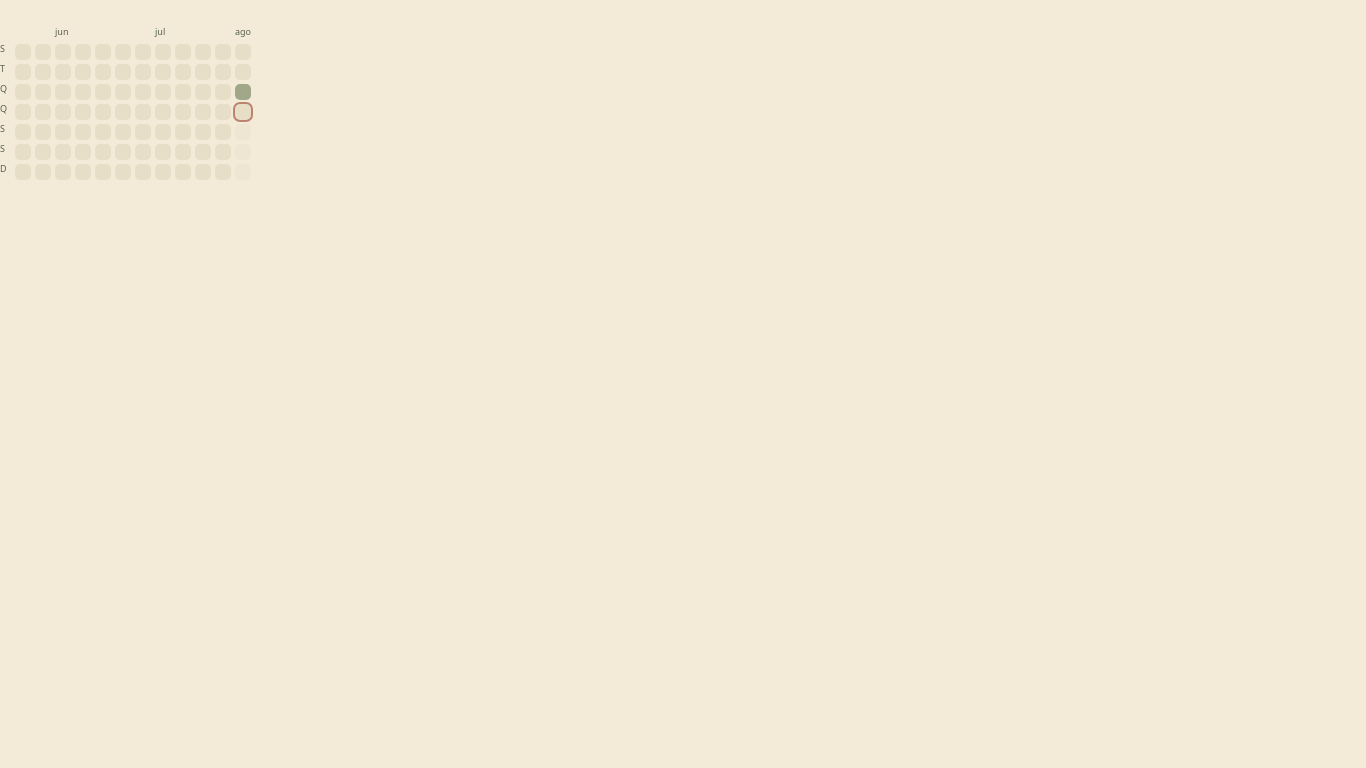
MapaCalor no fluxo do cliente autenticado › mostra apenas as práticas do cliente autenticado
Click the button named "05 de ago. — 2 práticas" at (243, 92), box [235,84,251,100]
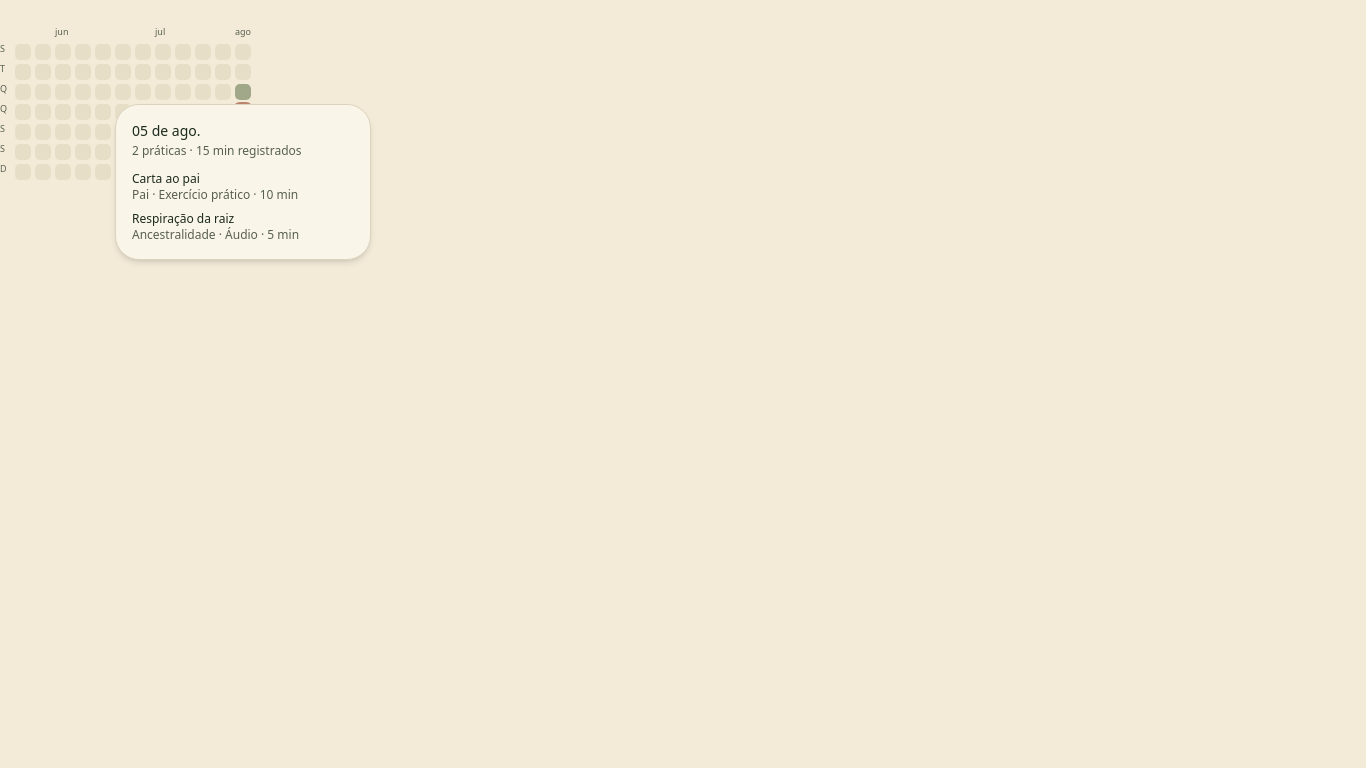
Expected: the text "2 práticas · 15 min registrados" is shown, [132,142,302,159]
Expected: the text "Carta ao pai" is shown, [132,170,200,187]
Expected: the text "Respiração da raiz" is shown, [132,210,234,227]
